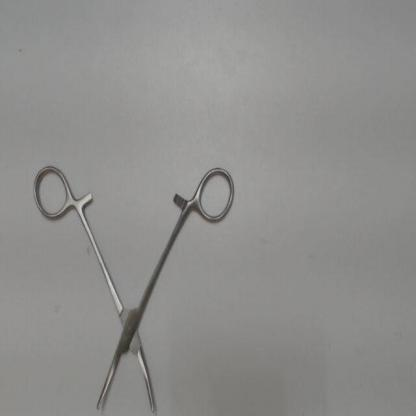Crile Artery Forceps: (27, 156, 237, 415)
